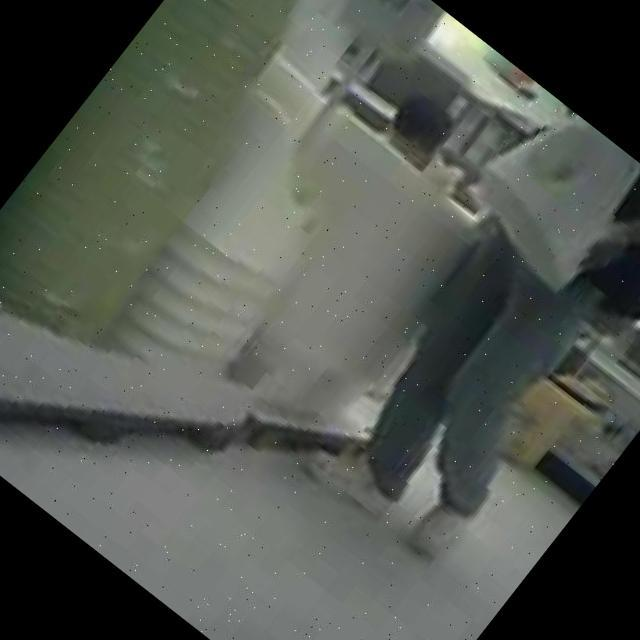person: (282, 100, 640, 579)
